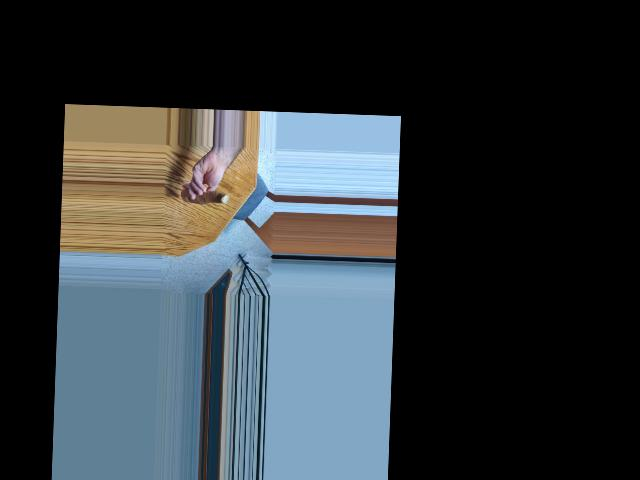sweet_potato: (180, 184, 230, 205)
